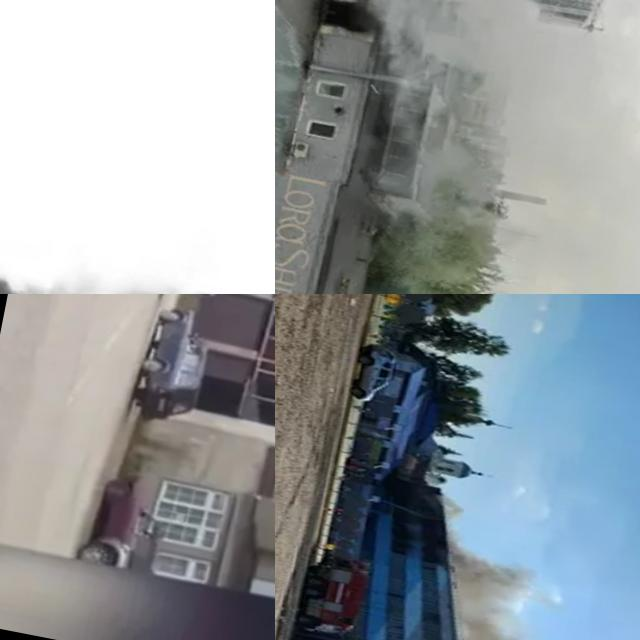smoke: (0, 0, 275, 294), (343, 0, 640, 166), (395, 552, 640, 640)
